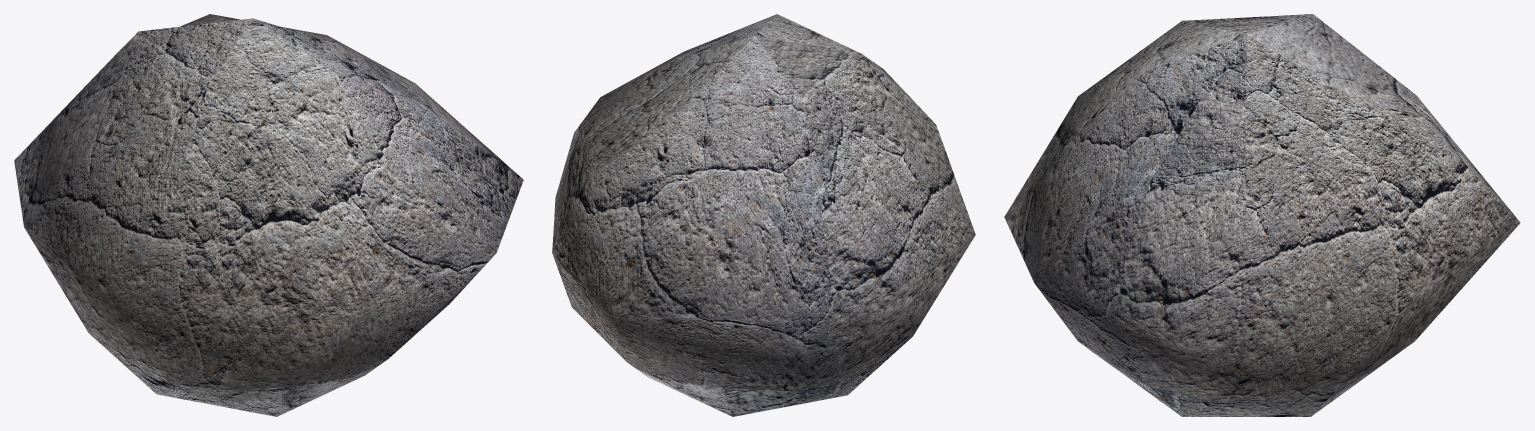
File: rock.fbx
3 renders of one model, left to right at view 1: azimuth 30°, elevation 25°; view 2: azimuth 150°, elevation 25°; view 3: azimuth 270°, elevation 25°, orthographic. The views are drawn at different scales.
Visible parts, largest first — view 1: Icosphere; view 2: Icosphere; view 3: Icosphere.
Boxes of the visible parts, x1,y1,x2,y2 form: Icosphere: (14, 14, 523, 416); Icosphere: (552, 14, 975, 416); Icosphere: (1004, 14, 1520, 416).
Bounding box in the file's own units: 230 × 197 × 248.
